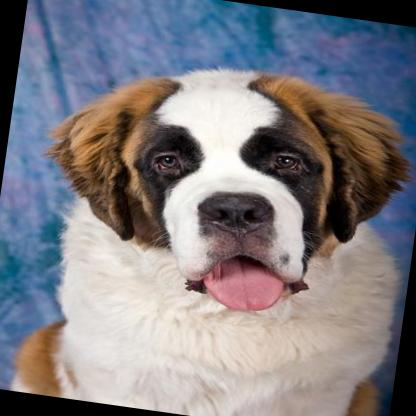Saint_Bernard: (7, 37, 416, 416)
